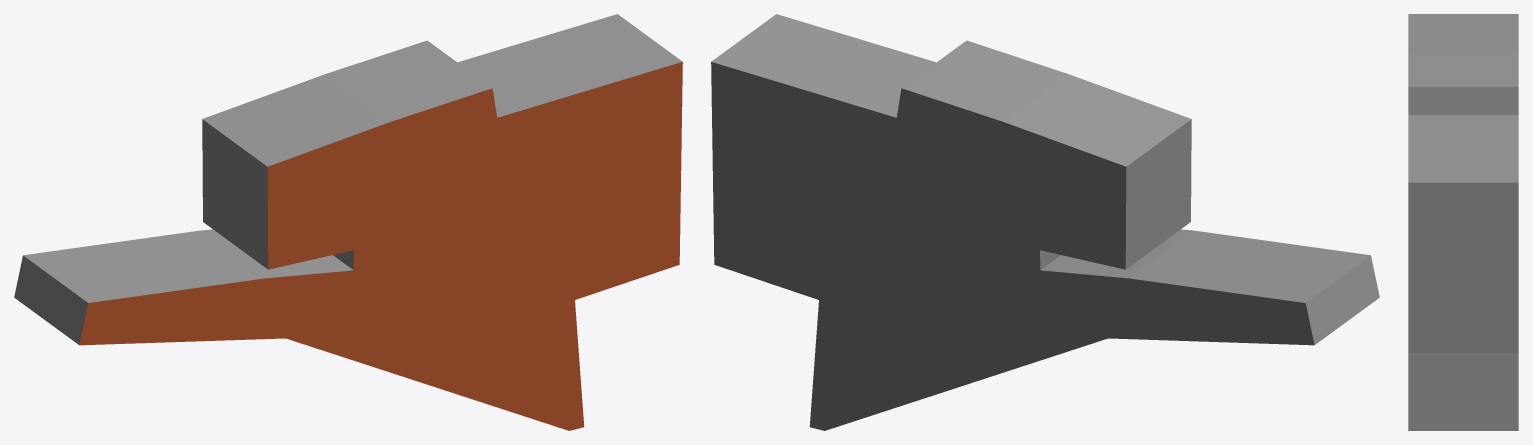
The model's file is construction_2736_assumed_A_Casa_h6m.obj.
3 renders of one model, left to right at view 1: azimuth 30°, elevation 25°; view 2: azimuth 150°, elevation 25°; view 3: azimuth 270°, elevation 25°, orthographic. The views are drawn at different scales.
Parts seen in each view (by area): view 1: construction_2736_assumed_A_Casa; view 2: construction_2736_assumed_A_Casa; view 3: construction_2736_assumed_A_Casa.
Boxes of the visible parts, bbox=[...] form: construction_2736_assumed_A_Casa: bbox=[14, 14, 682, 430]; construction_2736_assumed_A_Casa: bbox=[711, 14, 1379, 430]; construction_2736_assumed_A_Casa: bbox=[1408, 14, 1518, 430].
Size of the model in its own units: 32.02 by 18.33 by 6.
